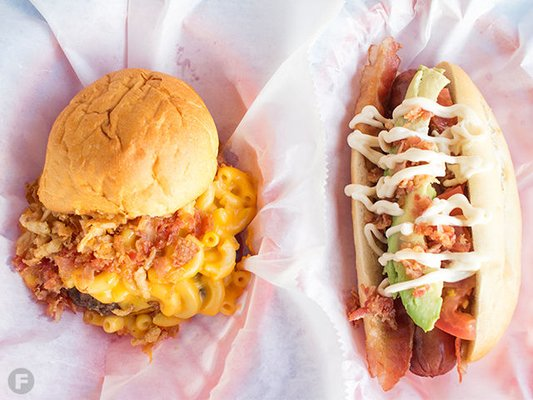soup: (9, 68, 258, 370)
